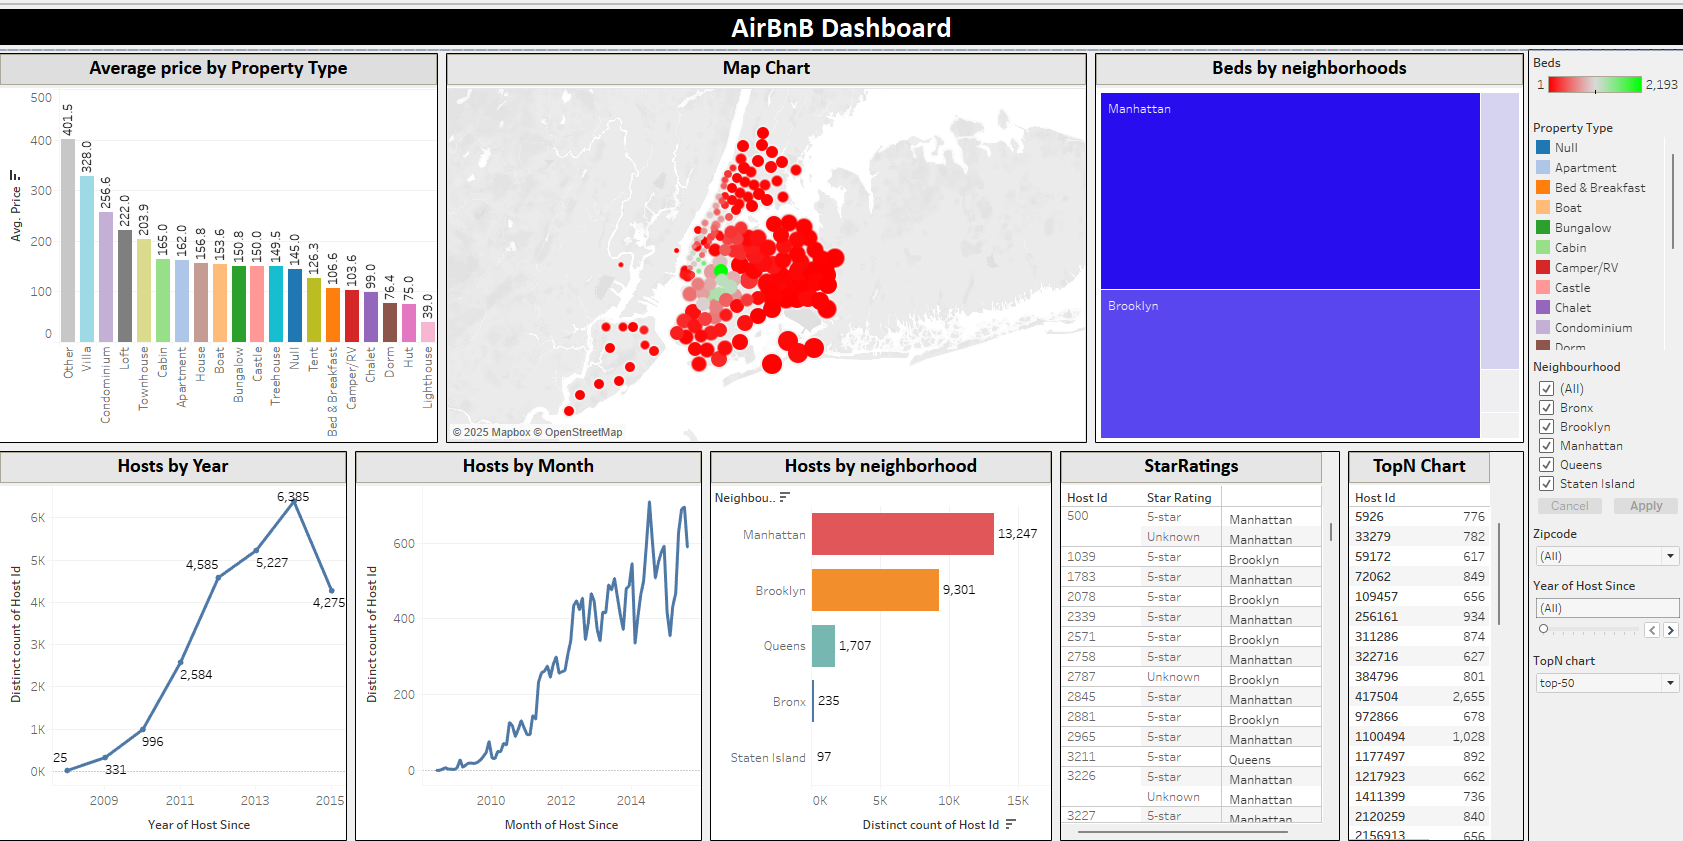

What the dashboard file says about the page in this screenshot:
{"tool":"tableau","page":{"name":"AirBnB Dashboard ","canvas":[1000,1000],"units":"permille","ordinal":0},"visuals":[{"type":"title","box":[6.5,12.2,987,67]},{"type":"worksheet","title":"Price Distribution","mark":"Automatic","rows":["Price"],"cols":["Property Type"],"box":[6.5,79.2,249.9,454.3]},{"type":"worksheet","title":"Listings Map View","mark":"Automatic","box":[256.4,79.2,362.7,454.3]},{"type":"worksheet","title":"Total Beds","mark":"Square","box":[619.1,79.2,244.2,454.3]},{"type":"legend","title":"Listings Map View","param":"[federated.06ww2vk0a6xvmf12kqlns0lezdqj].[sum:Beds:qk]","box":[864.1,80.7,128.6,98.9]},{"type":"legend","title":"Price Distribution","param":"[federated.06ww2vk0a6xvmf12kqlns0lezdqj].[none:Property Type:nk]","box":[864.1,179.6,128.6,363.8]},{"type":"worksheet","title":"Hosts by Year","mark":"Automatic","rows":["Host Id"],"cols":["Host Since"],"box":[6.5,533.5,199,454.4]},{"type":"worksheet","title":"Hosts by Month","mark":"Automatic","rows":["Host Id"],"cols":["Host Since"],"box":[205.5,533.5,198.4,454.4]},{"type":"worksheet","title":"Total Neighborhoods","mark":"Automatic","rows":["Neighbourhood"],"cols":["Host Id"],"box":[403.9,533.5,195.6,454.4]},{"type":"worksheet","title":"StarRatings","mark":"Automatic","rows":["Host Id","StarRating"],"box":[599.5,533.5,160.8,454.4]},{"type":"worksheet","title":"TopN Chart","mark":"Automatic","rows":["Host Id"],"box":[760.3,533.5,103,454.4]},{"type":"filter","title":"Total Neighborhoods","param":"[federated.06ww2vk0a6xvmf12kqlns0lezdqj].[none:Neighbourhood:nk]","box":[864.1,543.4,128.6,170.5]},{"type":"filter","title":"Total Neighborhoods","param":"[federated.06ww2vk0a6xvmf12kqlns0lezdqj].[none:Zipcode:ok]","box":[864.1,713.8,128.6,79.2]},{"type":"filter","title":"Hosts by Month","param":"[federated.06ww2vk0a6xvmf12kqlns0lezdqj].[yr:Host Since:ok]","box":[864.1,793,128.6,114.2]},{"type":"parameter","param":"[Parameters].[Parameter 1]","box":[864.1,907.1,128.6,79.2]}]}

Visuals, with their boxes on the dashboard's canvas, which has no fixed pixel size, in thousandths of its width and height (x1, y1, x2, y2). These are canvas units, not pixel positions in the 1683x841 screenshot, which may show the page scaled, cropped or inside an application window:
title: (left=6, top=12, right=994, bottom=79)
"Price Distribution" worksheet: (left=6, top=79, right=256, bottom=534)
"Listings Map View" worksheet: (left=256, top=79, right=619, bottom=534)
"Total Beds" worksheet (Square marks): (left=619, top=79, right=863, bottom=534)
"Listings Map View" legend: (left=864, top=81, right=993, bottom=180)
"Price Distribution" legend: (left=864, top=180, right=993, bottom=543)
"Hosts by Year" worksheet: (left=6, top=534, right=206, bottom=988)
"Hosts by Month" worksheet: (left=206, top=534, right=404, bottom=988)
"Total Neighborhoods" worksheet: (left=404, top=534, right=600, bottom=988)
"StarRatings" worksheet: (left=600, top=534, right=760, bottom=988)
"TopN Chart" worksheet: (left=760, top=534, right=863, bottom=988)
"Total Neighborhoods" filter: (left=864, top=543, right=993, bottom=714)
"Total Neighborhoods" filter: (left=864, top=714, right=993, bottom=793)
"Hosts by Month" filter: (left=864, top=793, right=993, bottom=907)
parameter: (left=864, top=907, right=993, bottom=986)
